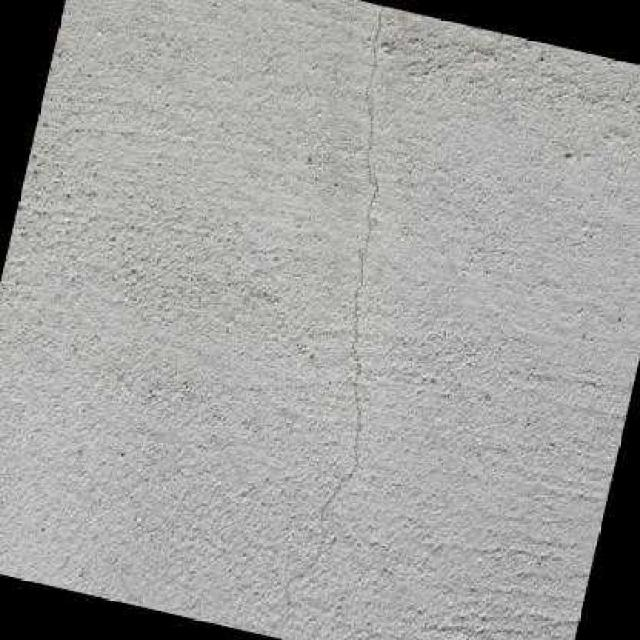D00: (263, 6, 386, 637)
